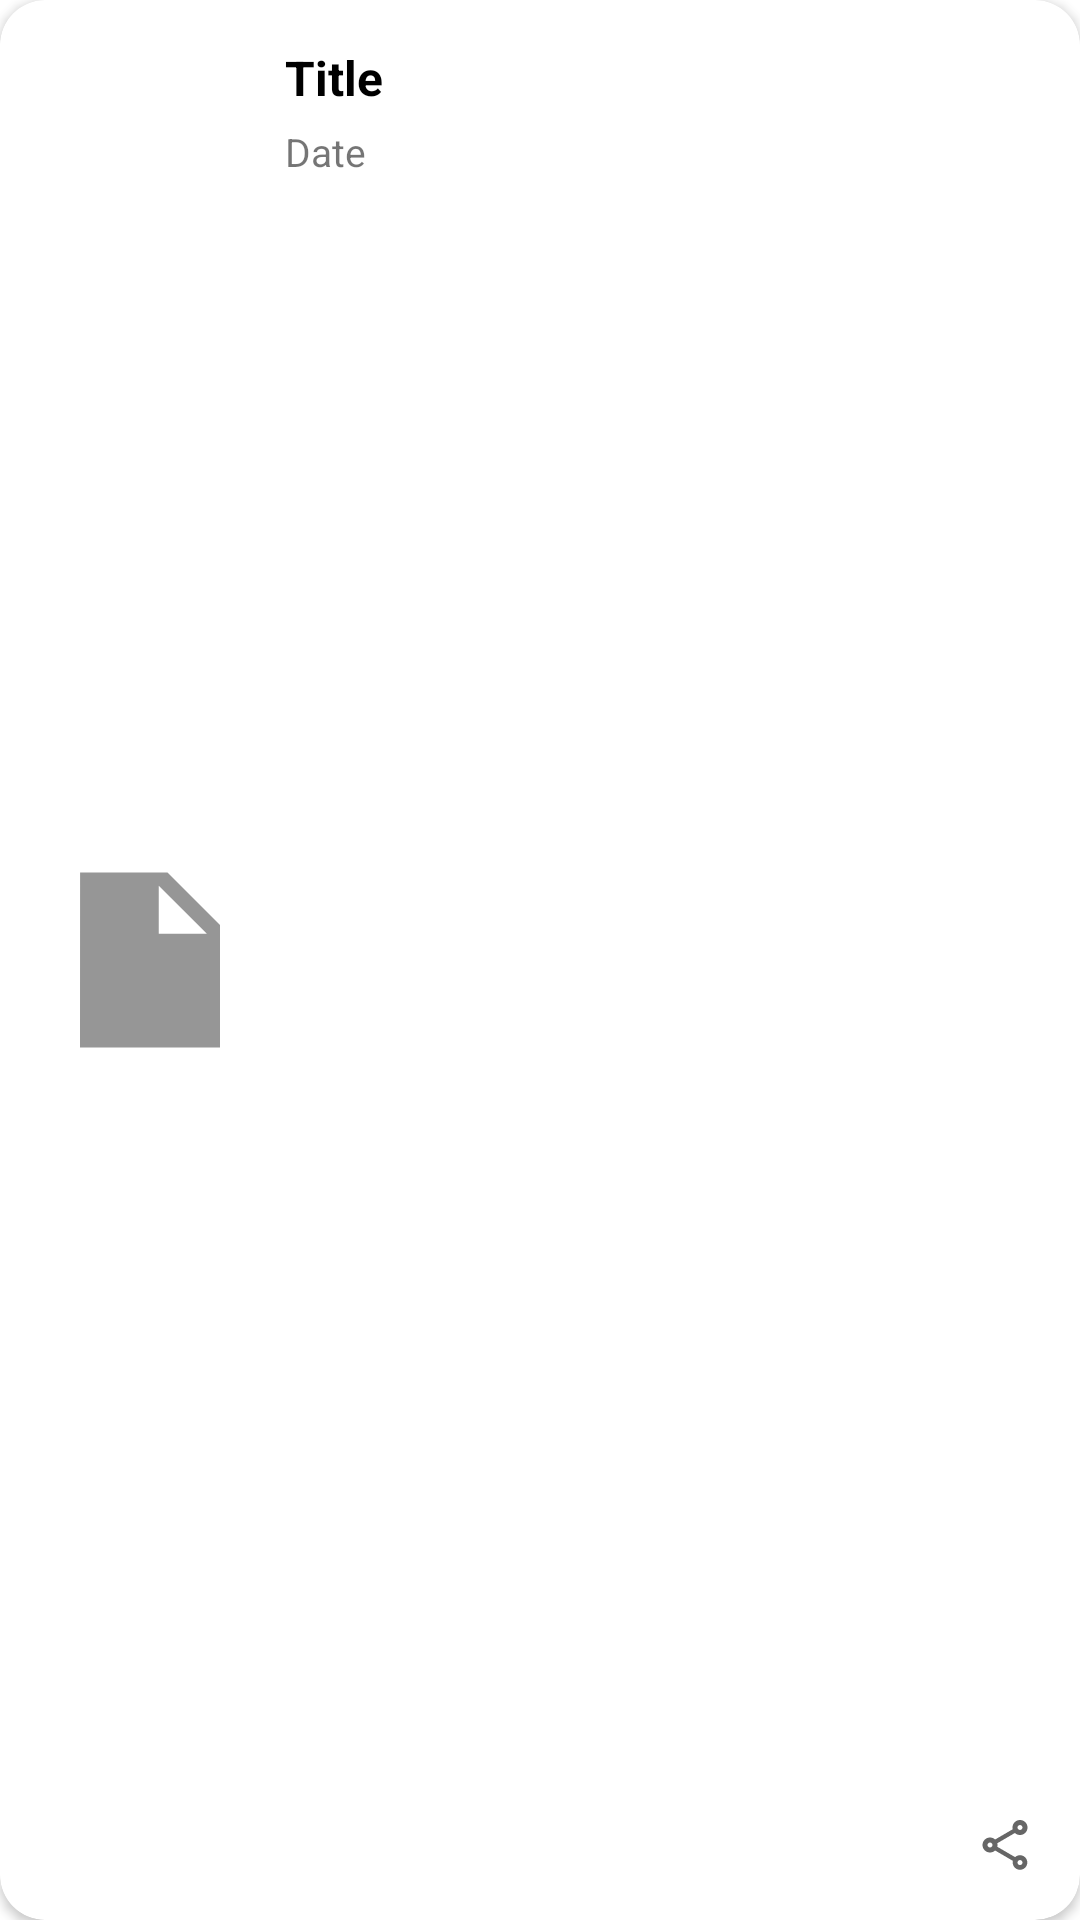

Icons on this 1080px x 1920px Android screen, each with the point to tap as [x,y]:
insert drive file: [150,960]
share: [1005,1845]
